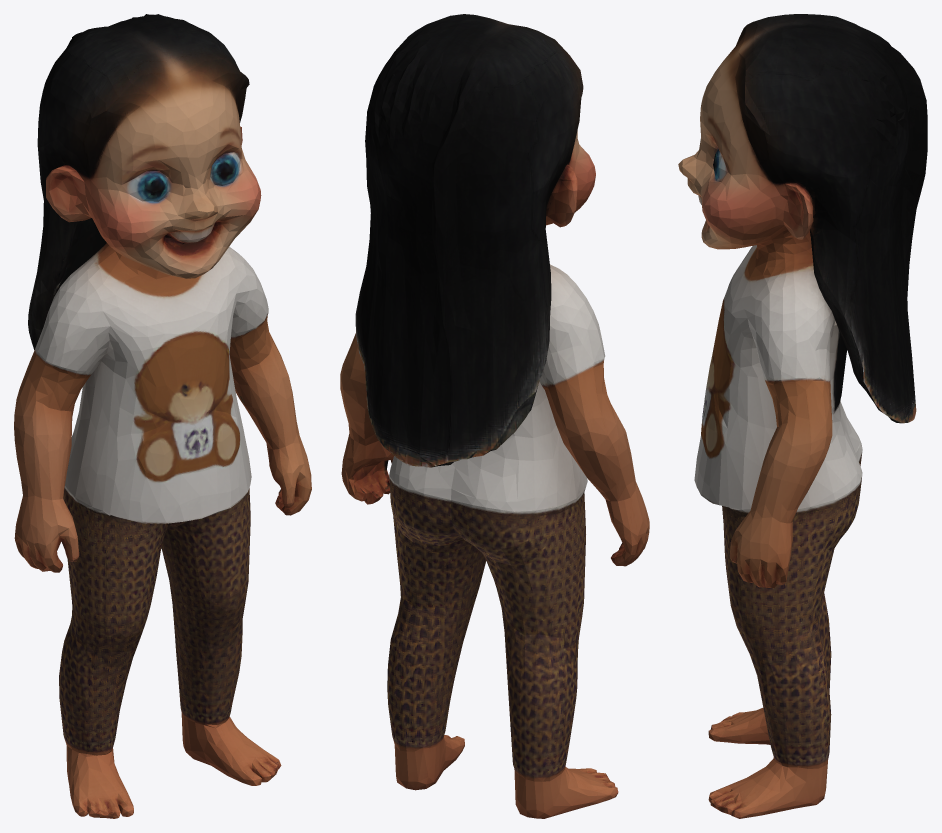
Rendered from lana.glb.
3 renders of one model, left to right at view 1: azimuth 30°, elevation 25°; view 2: azimuth 150°, elevation 25°; view 3: azimuth 270°, elevation 25°, orthographic. The views are drawn at different scales.
Parts seen in each view (by area): view 1: world; view 2: world; view 3: world.
Part boxes in pixels (bbox=[...]): world: bbox=[14, 14, 311, 818]; world: bbox=[340, 14, 649, 818]; world: bbox=[678, 14, 927, 818].
Bounding box in the file's own units: 0.4039 × 1 × 0.304.
Materials: 1 (1 with a texture image).
